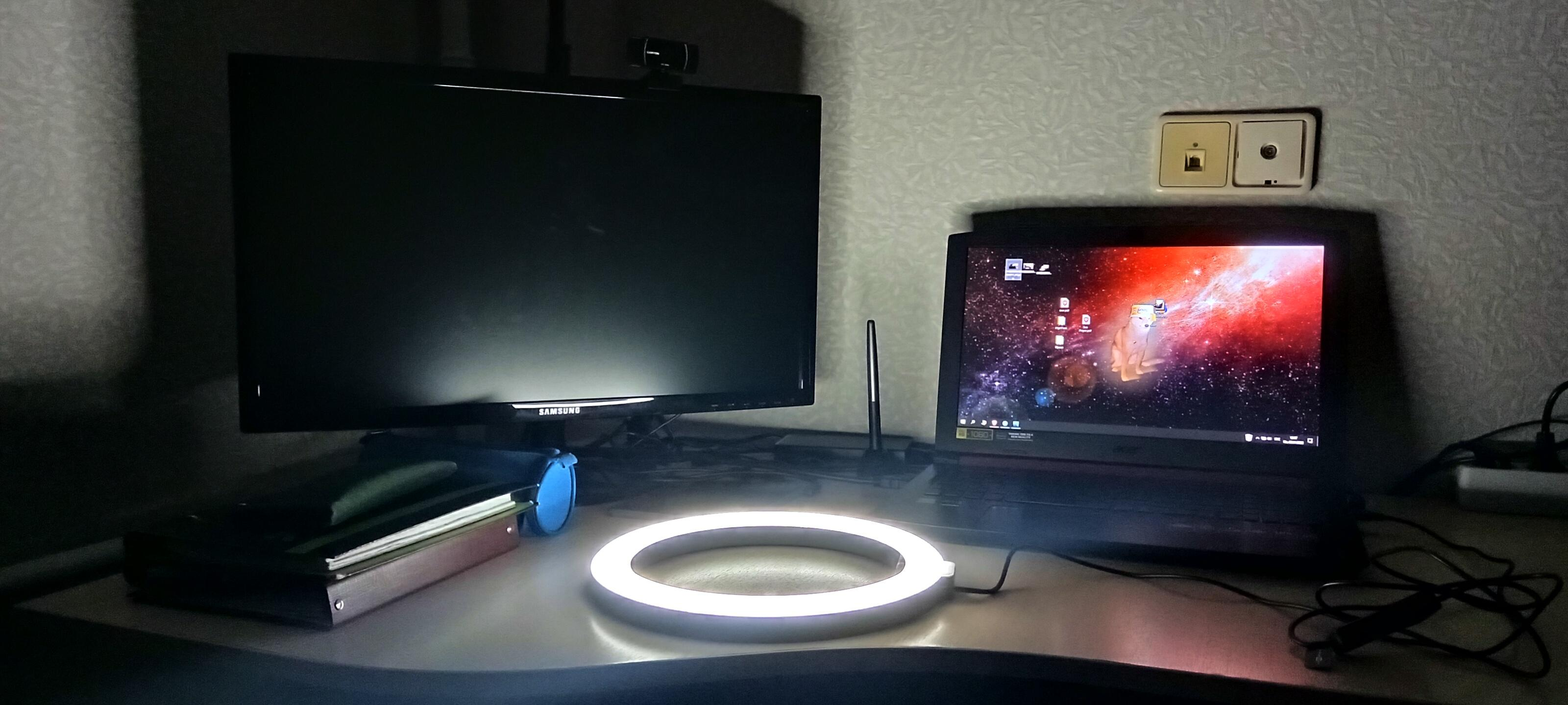monitor: (227, 55, 826, 437), (931, 225, 1344, 466)
